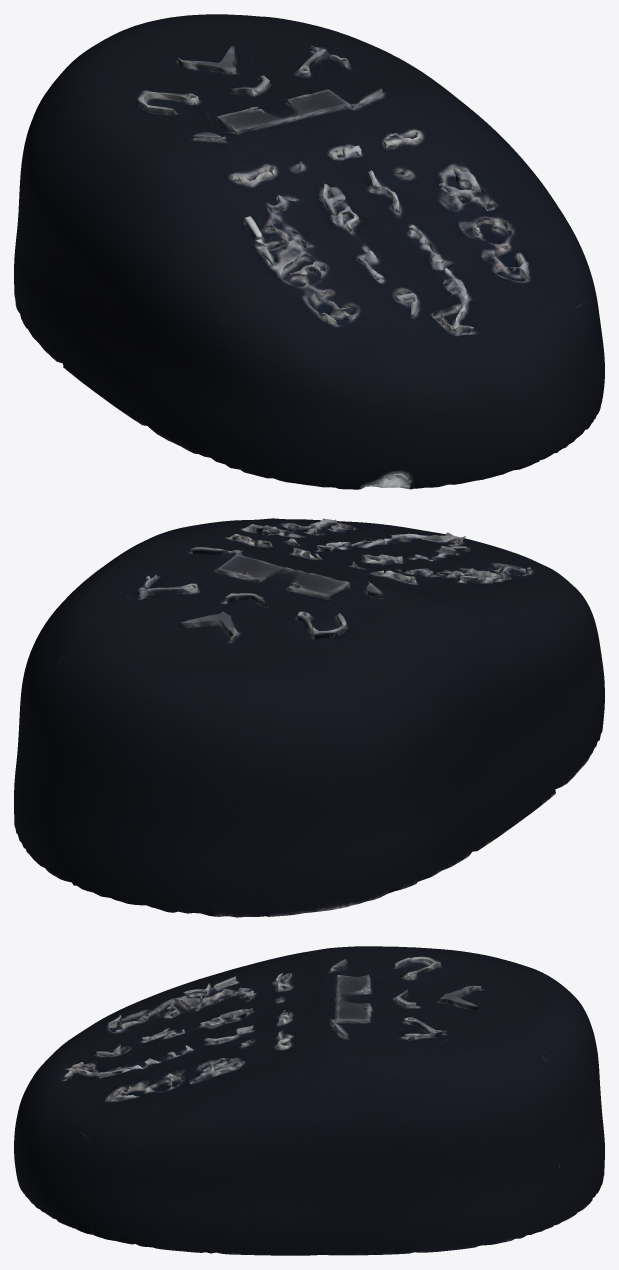
Rendered from rodin_Forge_RuneStele2_raw.glb.
3 renders of one model, top to bottom at view 1: azimuth 30°, elevation 25°; view 2: azimuth 150°, elevation 25°; view 3: azimuth 270°, elevation 25°, orthographic. The views are drawn at different scales.
Parts seen in each view (by area): view 1: model; view 2: model; view 3: model.
Boxes of the visible parts, x1,y1,x2,y2 form: model: (14,14,604,489); model: (14,518,604,917); model: (14,946,604,1255).
Size of the model in its own units: 1.26 by 0.6272 by 1.89.
1 material, 1 textured.
